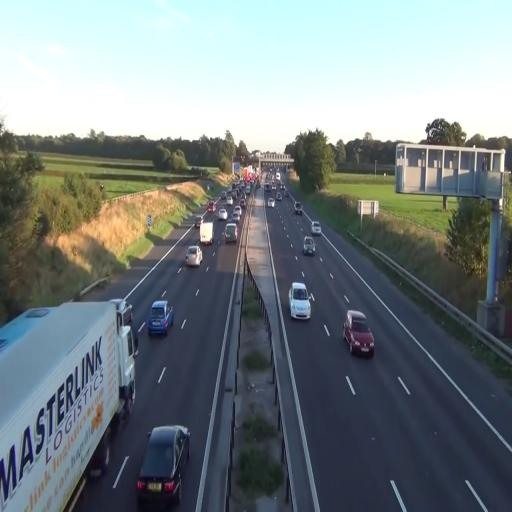vehicle: (136, 423, 190, 510), (343, 310, 375, 357), (147, 299, 174, 338), (289, 280, 312, 321), (185, 244, 203, 267), (302, 234, 316, 255), (224, 223, 237, 243), (311, 220, 320, 236)
